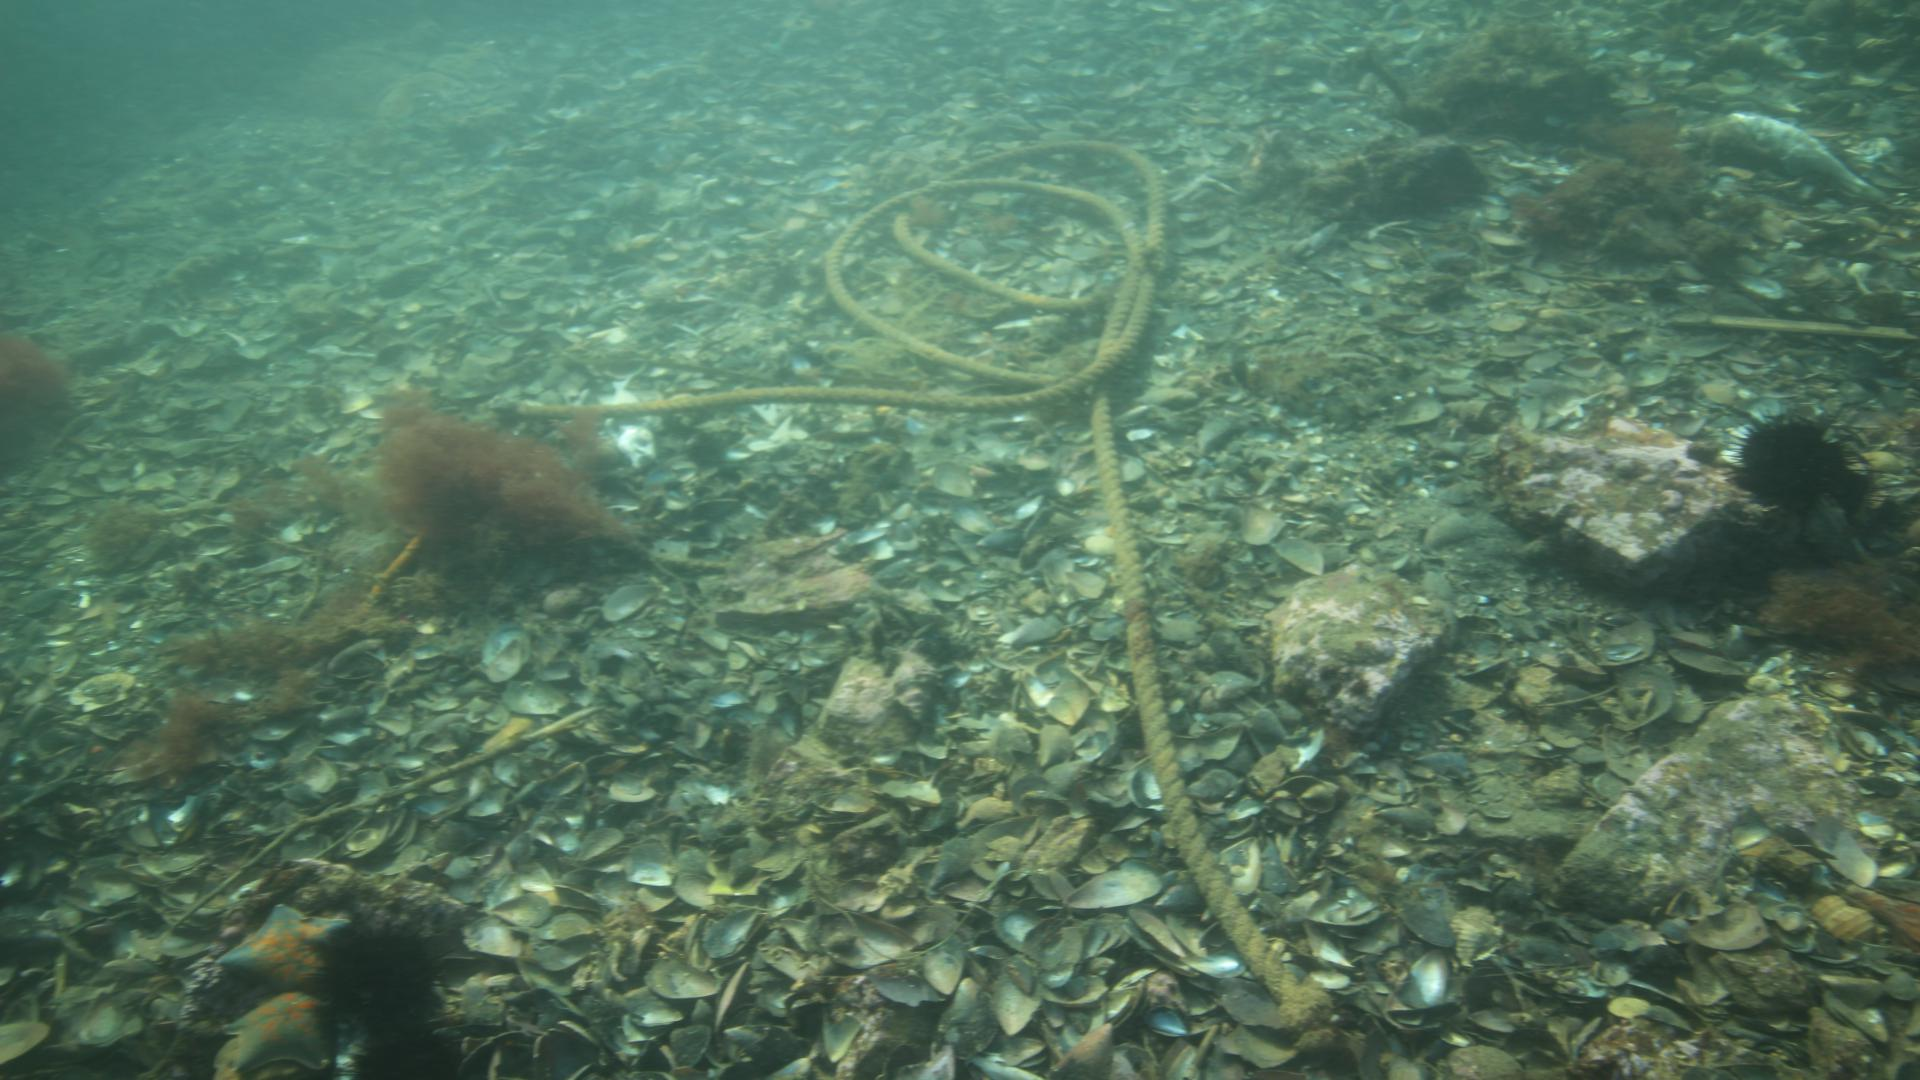bundle of ropes: (524, 132, 1292, 992)
